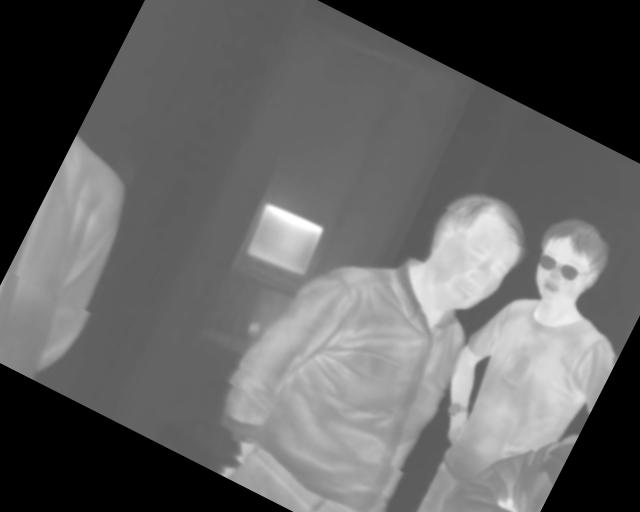face: (404, 178, 541, 327), (518, 206, 620, 318)
